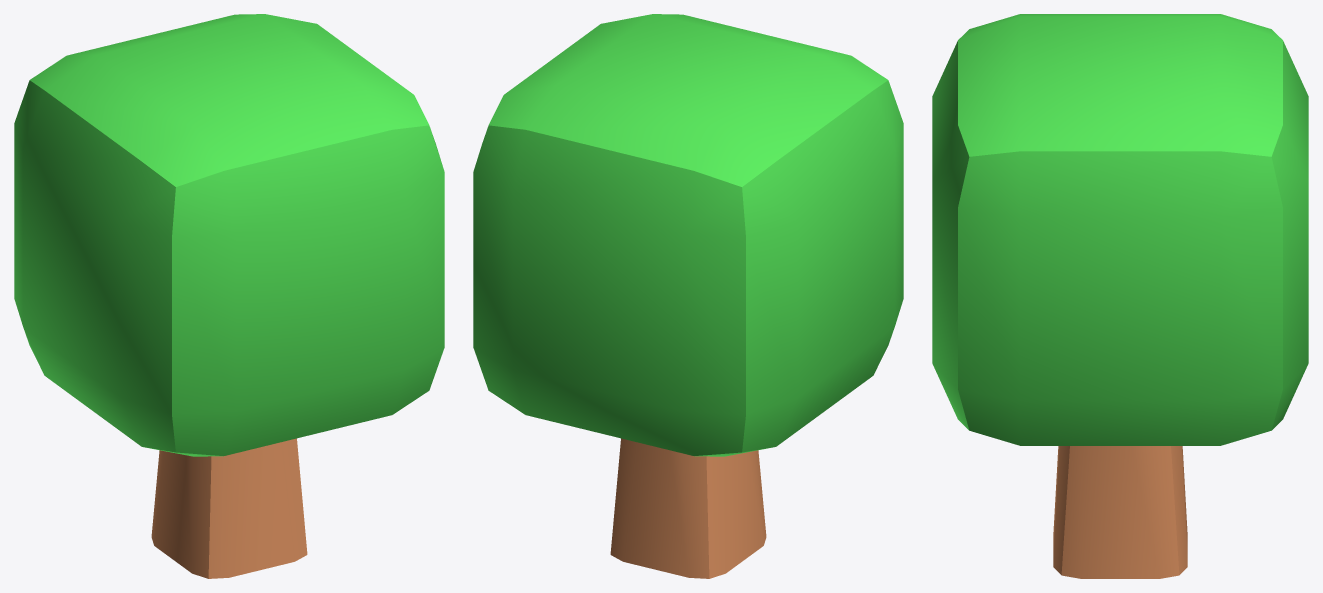
The model's file is Tree_B.fbx.
The picture shows the model from 3 angles, left to right: view 1: azimuth 30°, elevation 25°; view 2: azimuth 150°, elevation 25°; view 3: azimuth 270°, elevation 25°; orthographic projection. The views are drawn at different scales.
Parts seen in each view (by area): view 1: Tree_B; view 2: Tree_B; view 3: Tree_B.
Part boxes in pixels (x1=…): Tree_B: x1=14, y1=14, x2=444, y2=578; Tree_B: x1=473, y1=14, x2=903, y2=578; Tree_B: x1=932, y1=14, x2=1308, y2=578.
Bounding box in the file's own units: 241 × 347 × 241.
